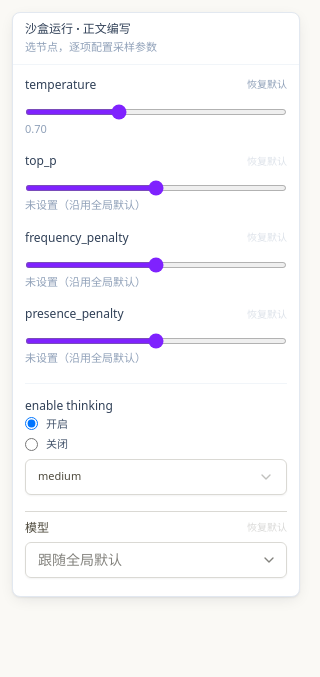
Test: NodeLlmParamsPanel model_ref override › 选中一条自定义模型后写入 model_ref
This screenshot has width=320, height=677.
Expected: the dropdown with placeholder "跟随全局默认" is shown, x1=26 y1=542 x2=257 y2=578
What coordinates should you click on to do the following:
click the 6th button
I would click on:
 (269, 560)
Its box is x1=257 y1=548 x2=281 y2=572.
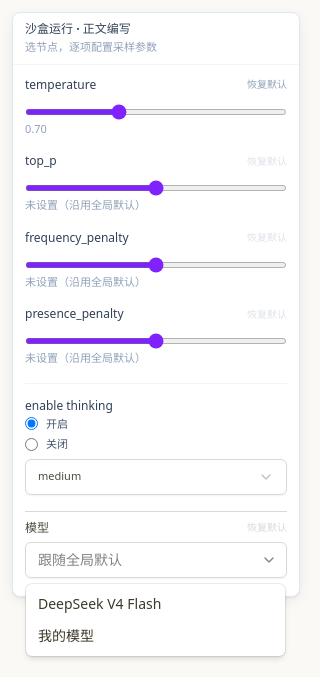
What coordinates should you click on to do the following:
click the option "我的模型"
I would click on:
 (66, 636)
Its box is x1=38 y1=626 x2=94 y2=645.
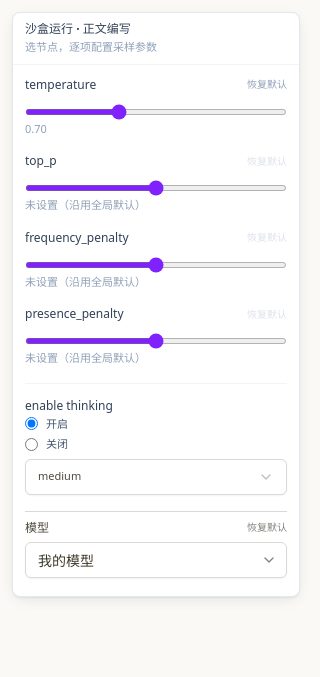
Expected: the dropdown with placeholder "跟随全局默认" holds "我的模型", x1=26 y1=542 x2=257 y2=578
